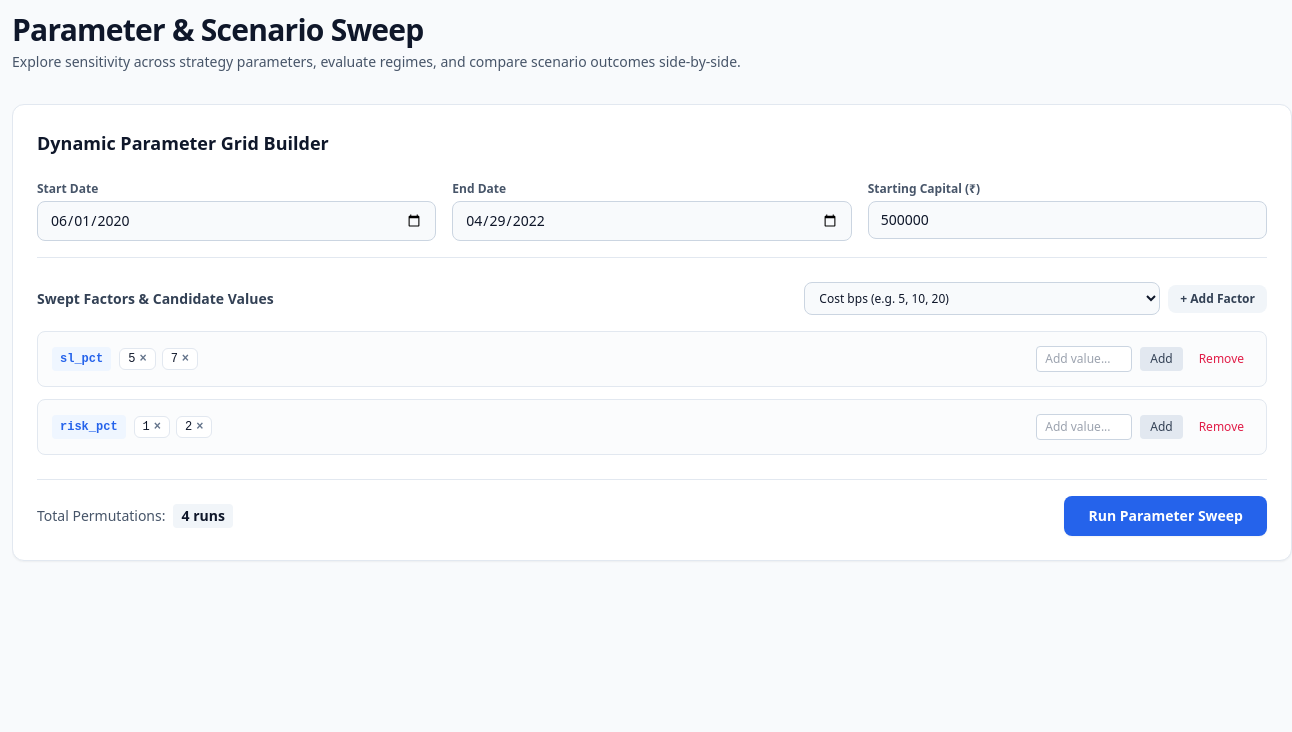
Scenario: SweepPage Component › updates permutation count when candidate values are added or removed
Expected: the text "4 runs" is shown, top-left (174, 504), bottom-right (233, 528)
Type "10" into the field with placeholder "Add value..." in the row of "sl_pct" at (1084, 359), box top-left (1036, 346), bottom-right (1132, 372)
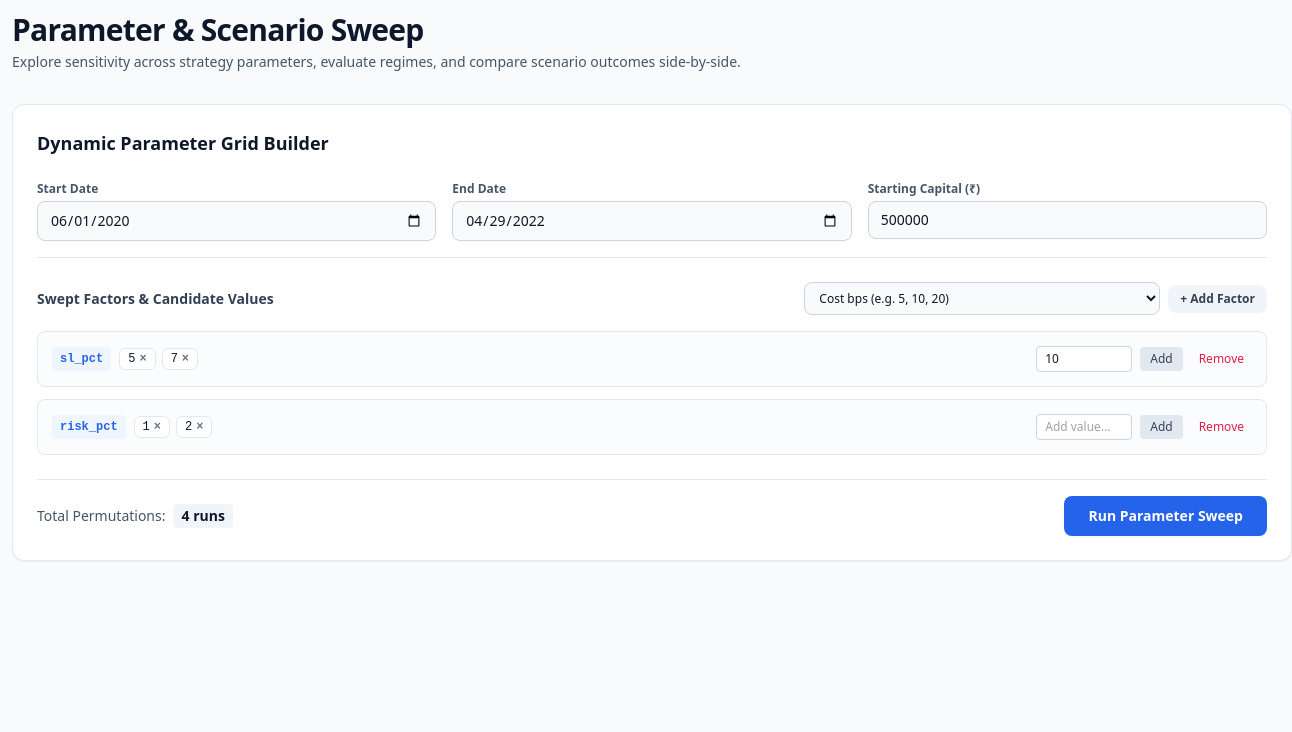
Click the button "Add" in the row of "sl_pct" at (1161, 359), box top-left (1140, 347), bottom-right (1183, 371)
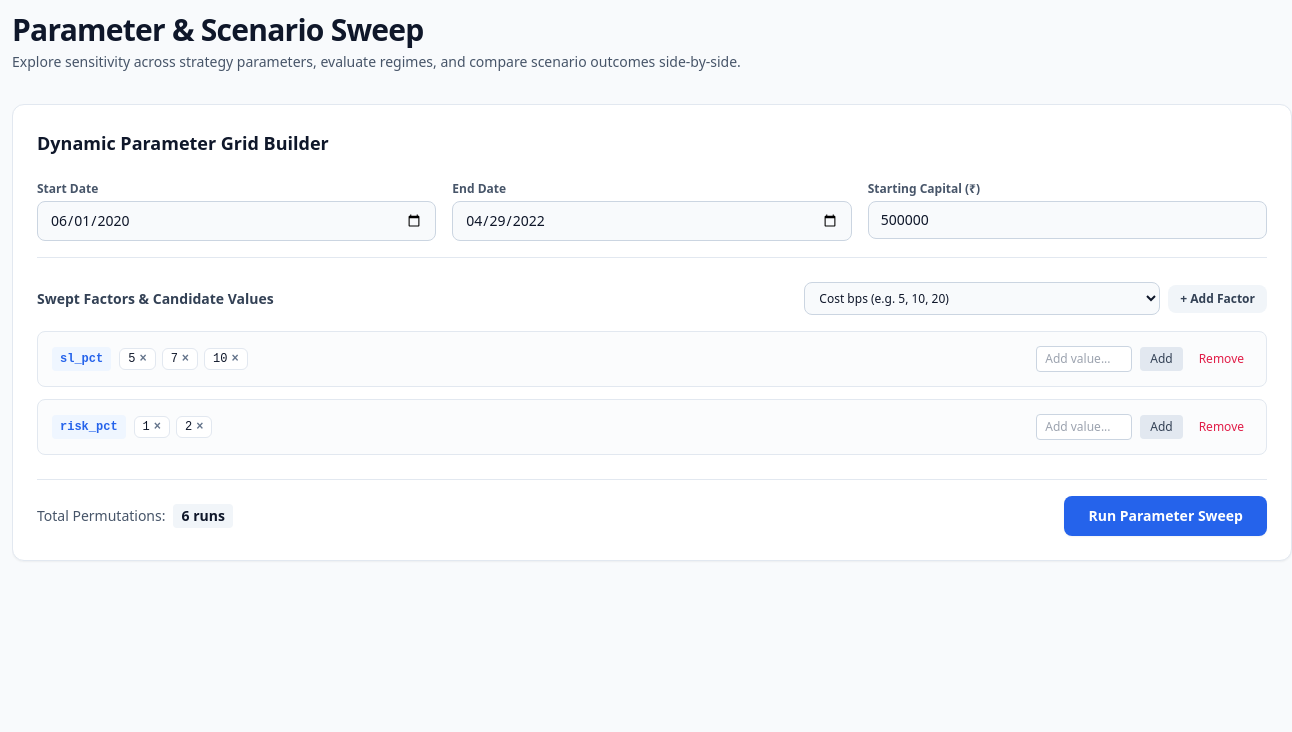
Now the text "6 runs" is shown, box top-left (174, 504), bottom-right (233, 528)
Note: Remove the newly added value "10"
Click the button named "remove" at (235, 359), box top-left (231, 351), bottom-right (239, 367)
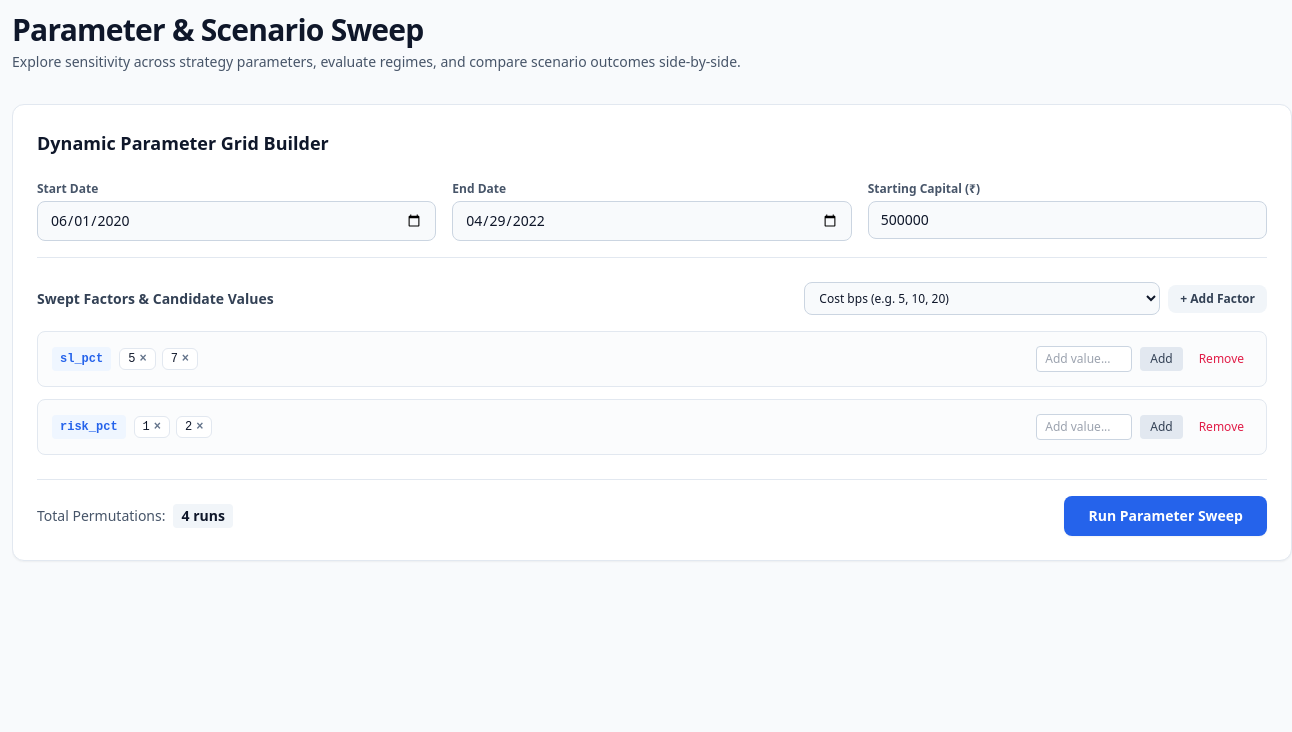
Now the text "4 runs" is shown, box top-left (174, 504), bottom-right (233, 528)
